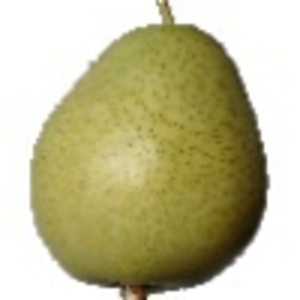pera: (27, 1, 269, 300)
